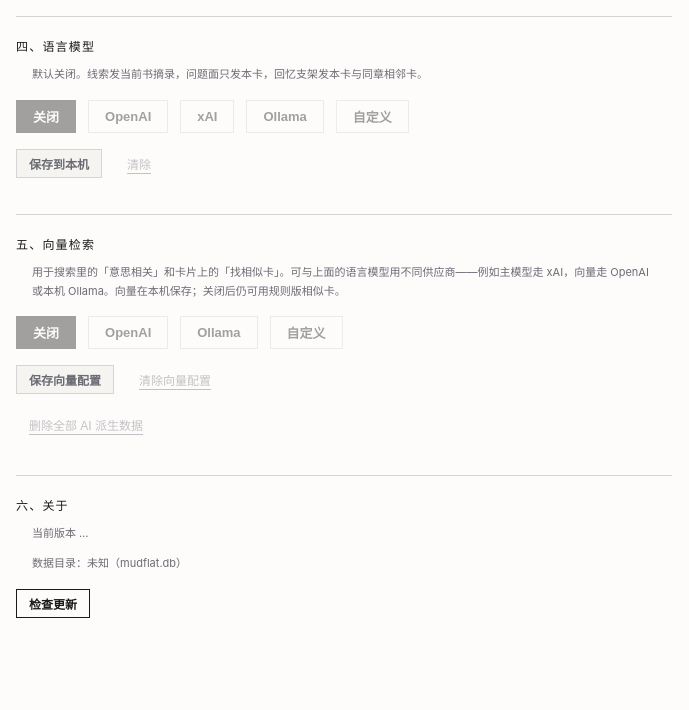
Test: SettingsView 关于与更新 › GitHub 有新版本时露出下载并安装
The width and height of the screenshot is (689, 710).
(page scrolled)
What coordinates should you click on to do the following:
click the button "检查更新"
I would click on:
 (53, 603)
Its box is [16,589,90,618].
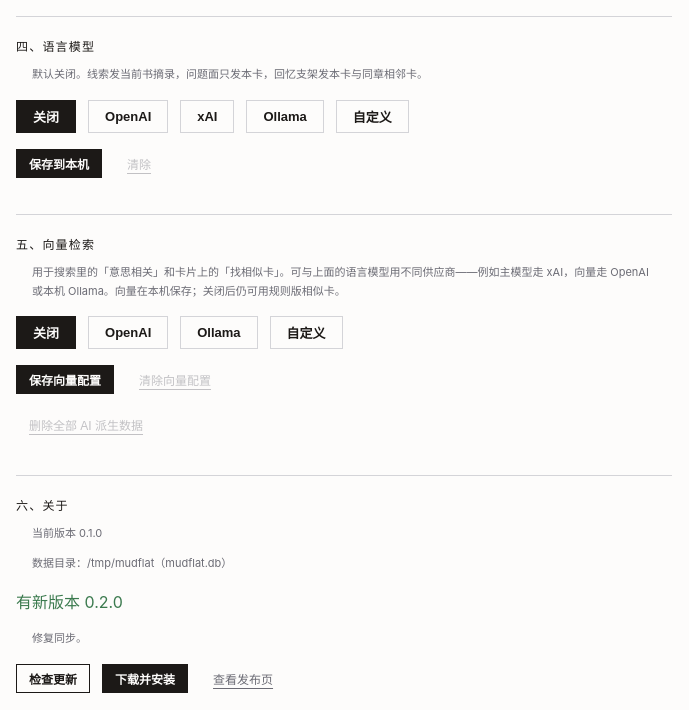
Expected: the text "有新版本 0.2.0" is shown, [16,592,123,612]
Expected: the text "修复同步。" is shown, [32,631,87,645]
Expected: the button "下载并安装" is shown, [102,664,188,692]
